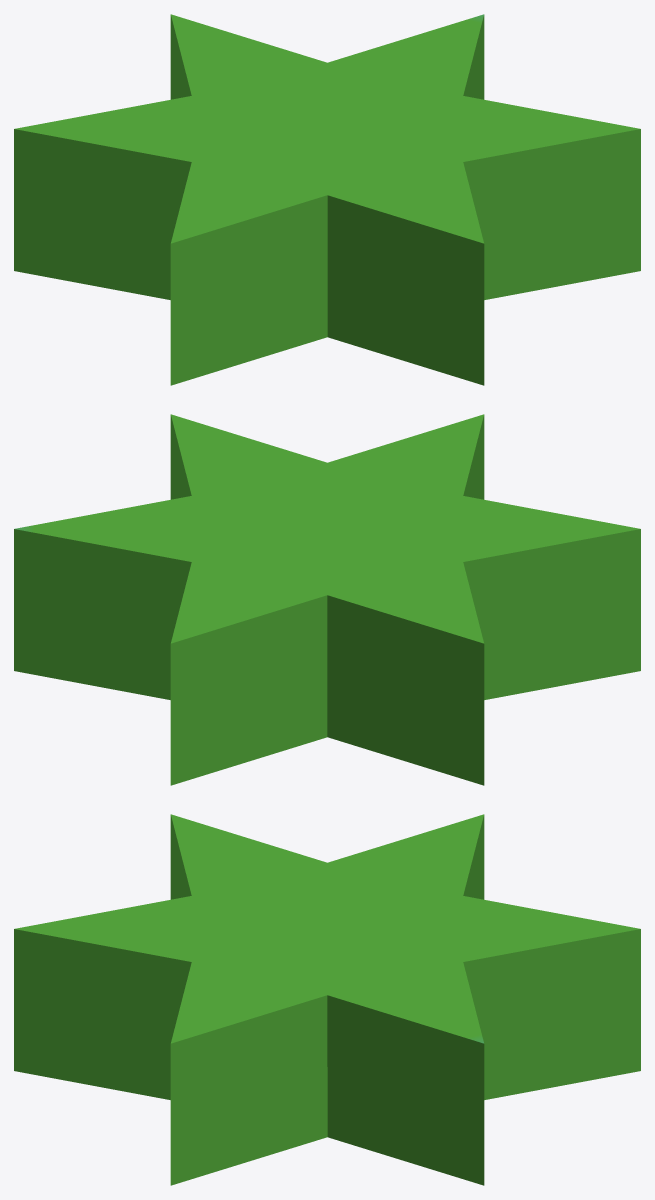
Rendered from Prop_ShapeSortingBlock_SixCornerStar.fbx.
The picture shows the model from 3 angles, top to bottom: view 1: azimuth 30°, elevation 25°; view 2: azimuth 150°, elevation 25°; view 3: azimuth 270°, elevation 25°; orthographic projection.
Visible parts, largest first — view 1: Prop_ShapeSortingBlock_SixCornerStar; view 2: Prop_ShapeSortingBlock_SixCornerStar; view 3: Prop_ShapeSortingBlock_SixCornerStar.
Part boxes in pixels (left/top/right/bottom): Prop_ShapeSortingBlock_SixCornerStar: left=14, top=14, right=640, bottom=385; Prop_ShapeSortingBlock_SixCornerStar: left=14, top=414, right=640, bottom=785; Prop_ShapeSortingBlock_SixCornerStar: left=14, top=814, right=640, bottom=1185.
Bounding box in the file's own units: 16.53 × 4.77 × 19.09.
